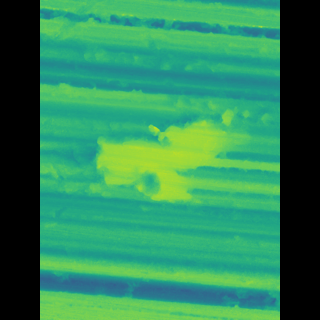Loch: (103, 88, 240, 210)
